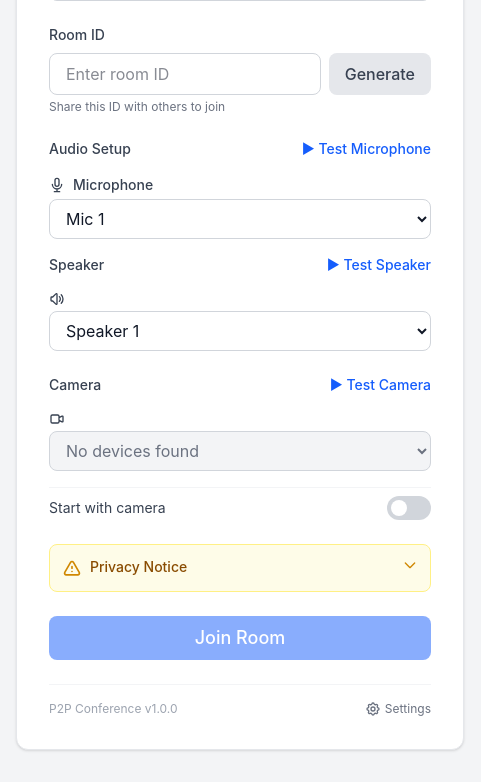
Test case: LobbyView › toggles privacy notice when clicked
This screenshot has width=481, height=782.
(page scrolled)
Expected: the text "Your IP will be visible to others" is not shown
// Click to expand
Click the text "Privacy Notice".
click(139, 566)  # box [90,558,187,575]
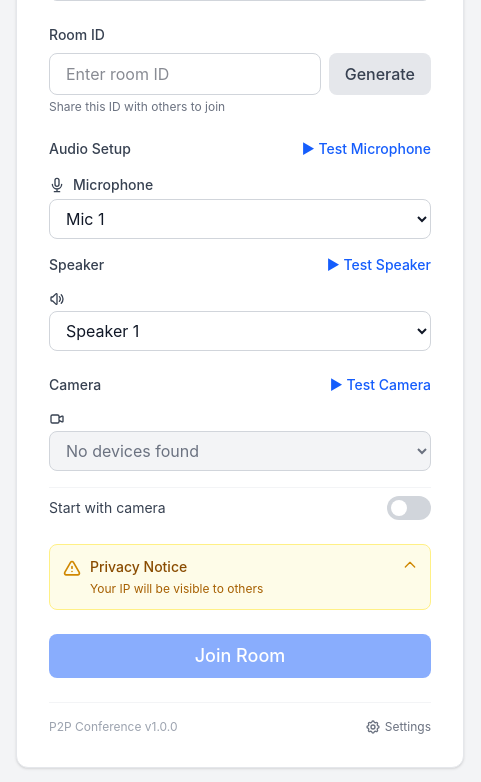
Result: the text "Your IP will be visible to others" is shown at [90,581,263,596]
// Click to collapse
Click the text "Privacy Notice".
click(177, 577)  # box [90,558,263,596]
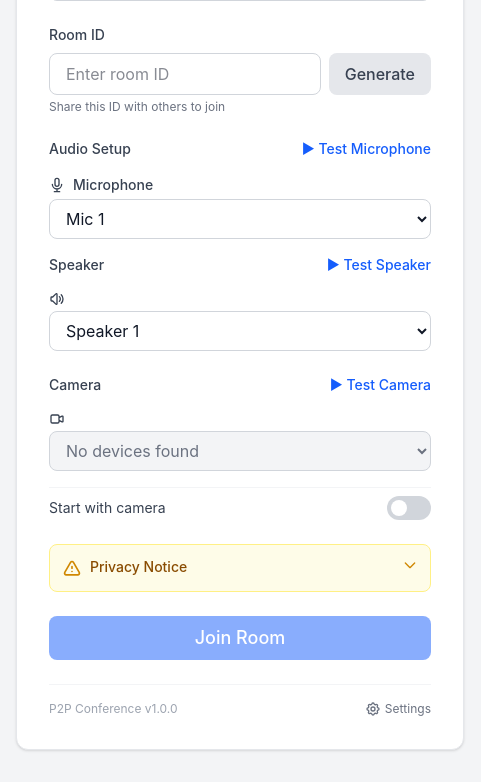
Result: the text "Your IP will be visible to others" is gone
